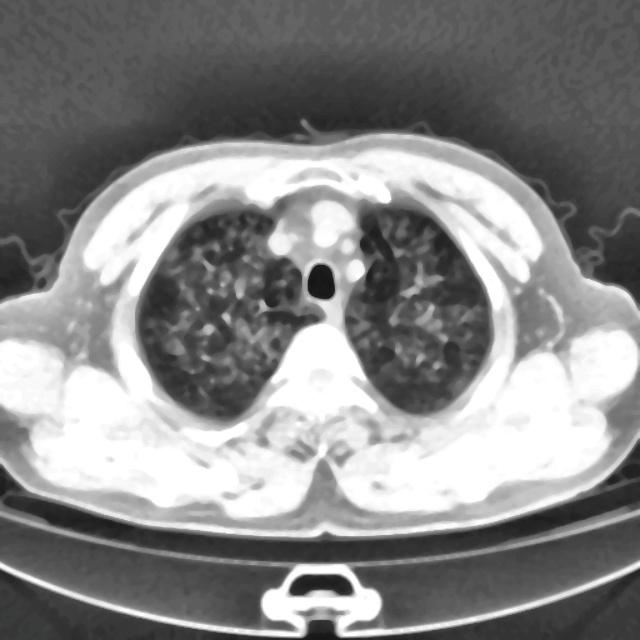covid: (0, 124, 639, 538)
